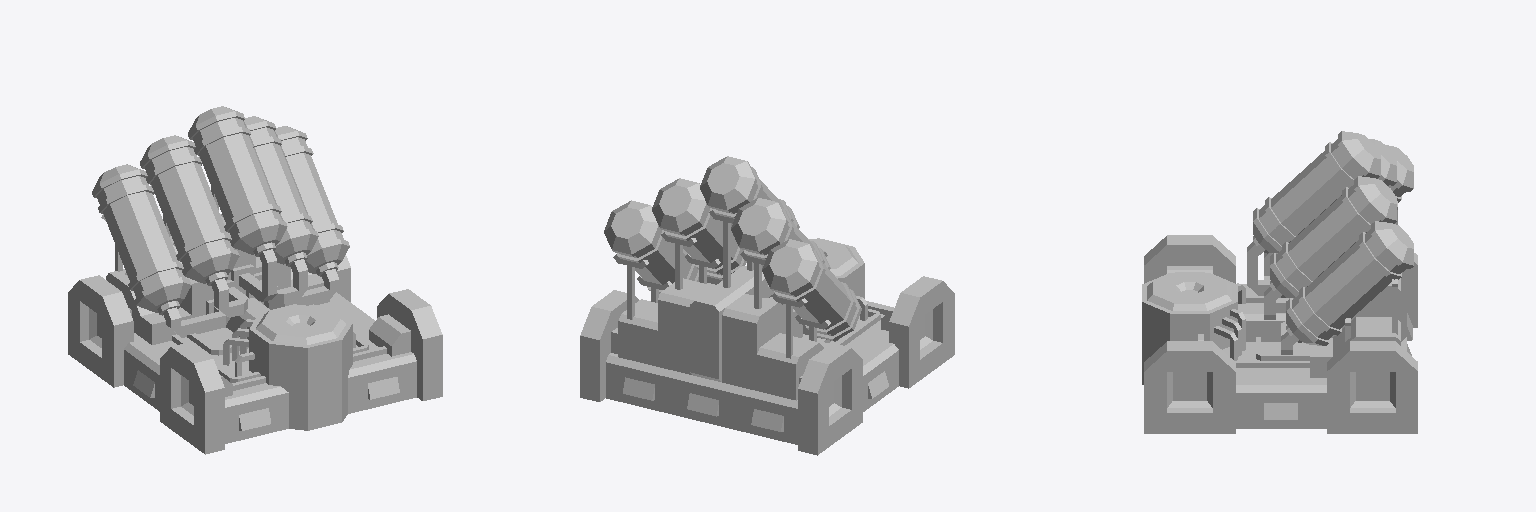
Rendered from grand_distillery_inventory.obj.
3 views of the same model, side by side, from view 1: azimuth 30°, elevation 25°; view 2: azimuth 150°, elevation 25°; view 3: azimuth 270°, elevation 25° (orthographic).
Parts seen in each view (by area): view 1: GRAND_DISTILLERY_Cube.031, GRAND_DISTILLERY_PLUG_BASE_Plane.003; view 2: GRAND_DISTILLERY_Cube.031, GRAND_DISTILLERY_PLUG_BASE_Plane.003; view 3: GRAND_DISTILLERY_Cube.031, GRAND_DISTILLERY_PLUG_BASE_Plane.003.
Part boxes in pixels (bbox=[...]): GRAND_DISTILLERY_Cube.031: bbox=[68, 106, 442, 454]; GRAND_DISTILLERY_PLUG_BASE_Plane.003: bbox=[124, 292, 374, 411]; GRAND_DISTILLERY_Cube.031: bbox=[580, 156, 954, 455]; GRAND_DISTILLERY_PLUG_BASE_Plane.003: bbox=[863, 343, 898, 411]; GRAND_DISTILLERY_Cube.031: bbox=[1142, 131, 1417, 433]; GRAND_DISTILLERY_PLUG_BASE_Plane.003: bbox=[1236, 284, 1326, 428].
Size of the model in its own units: 3 by 2.9 by 3.03.